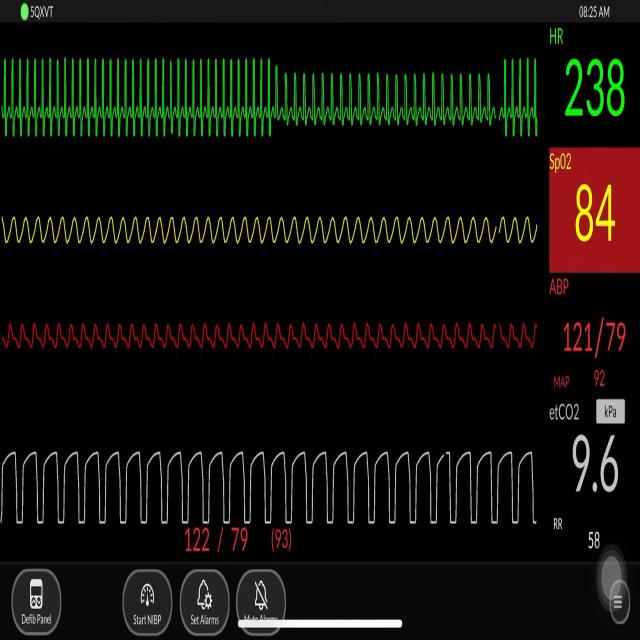danger: (7, 43, 273, 155), (310, 52, 496, 152)
